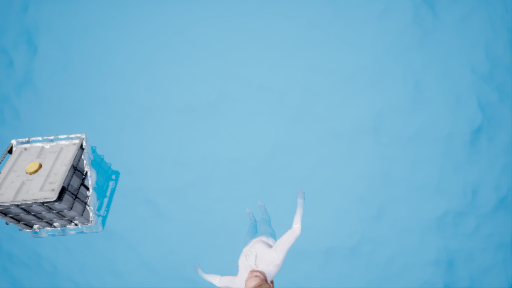person: (193, 183, 305, 288)
